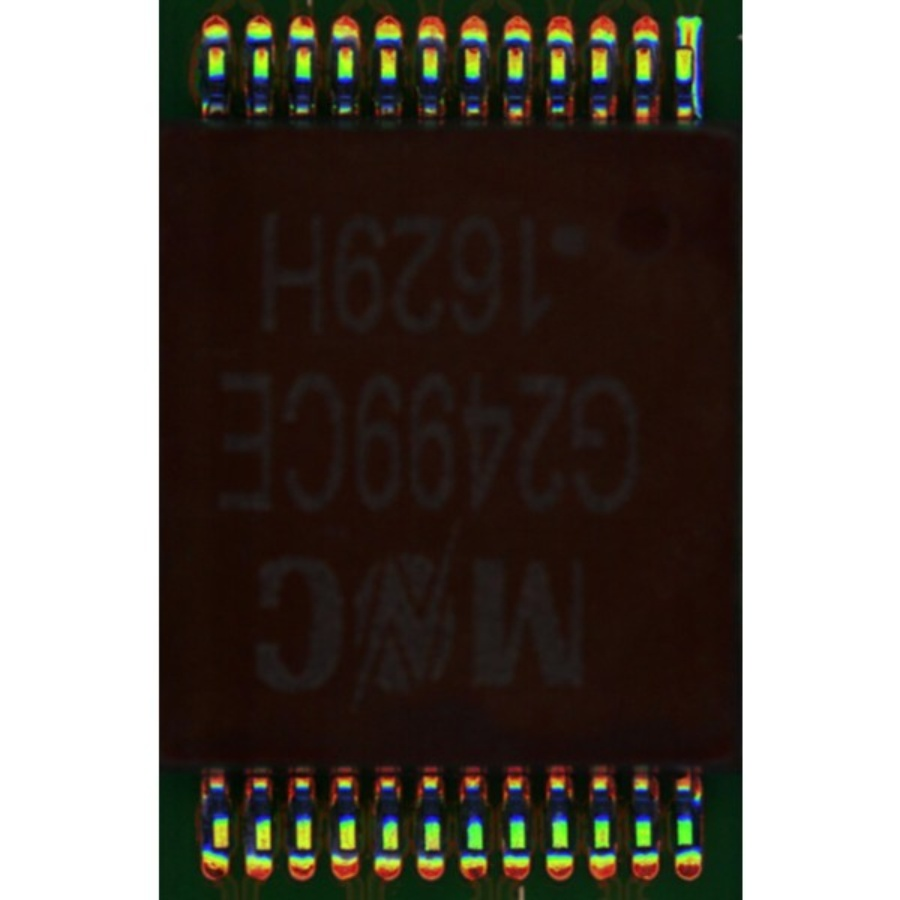Bad_podu: (682, 27, 693, 57)
Bad_qiaojiao: (691, 48, 704, 118)
